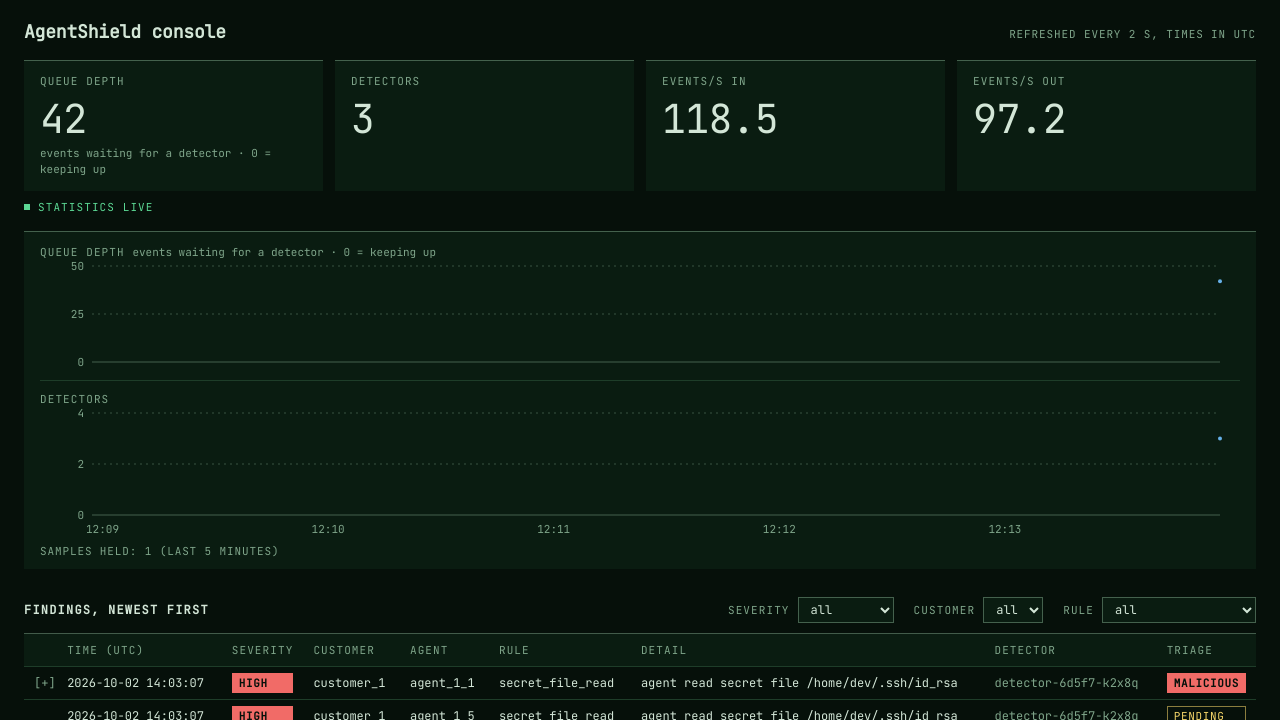
expands a row with a verdict to show the full verdict text
Expected: the text "malicious: the agent read a private key it had no task for" is not shown
Click the button named "show details" at coordinates (45, 683), box [34,673,56,693]
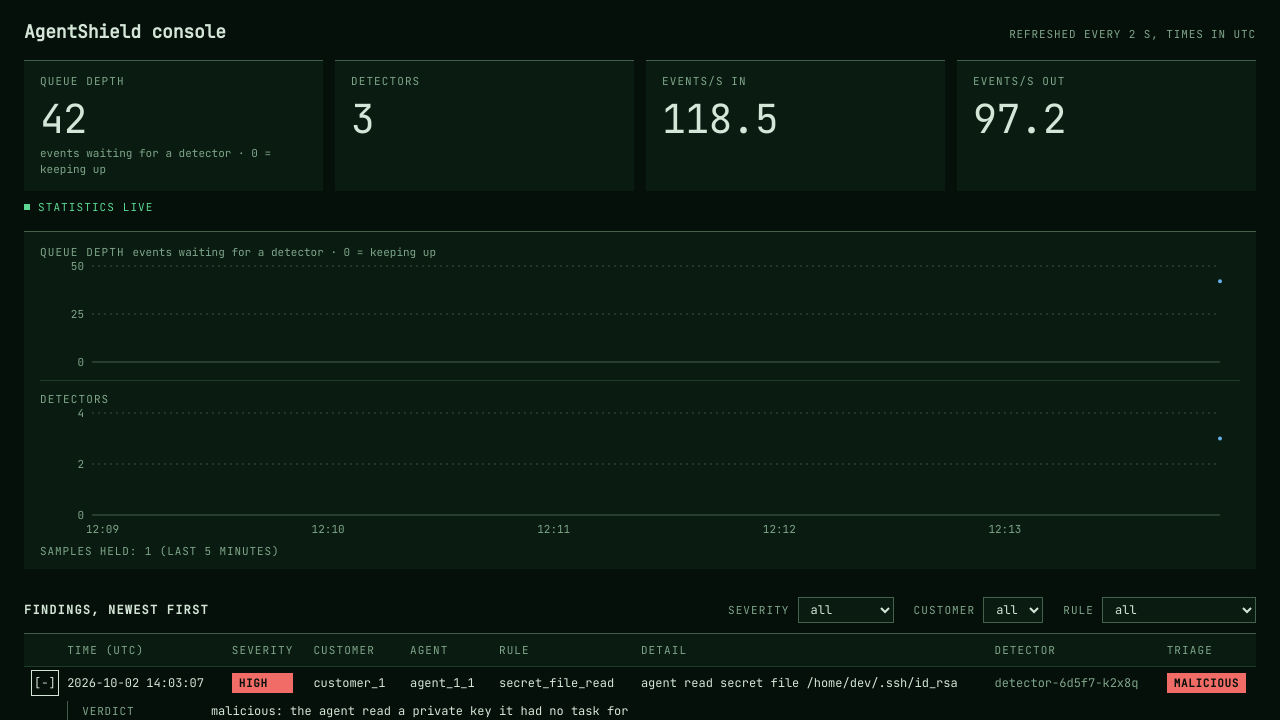
Result: the text "malicious: the agent read a private key it had no task for" is shown at [211,703,628,719]
Click the button named "hide details" at coordinates (45, 683), box [34,673,56,693]
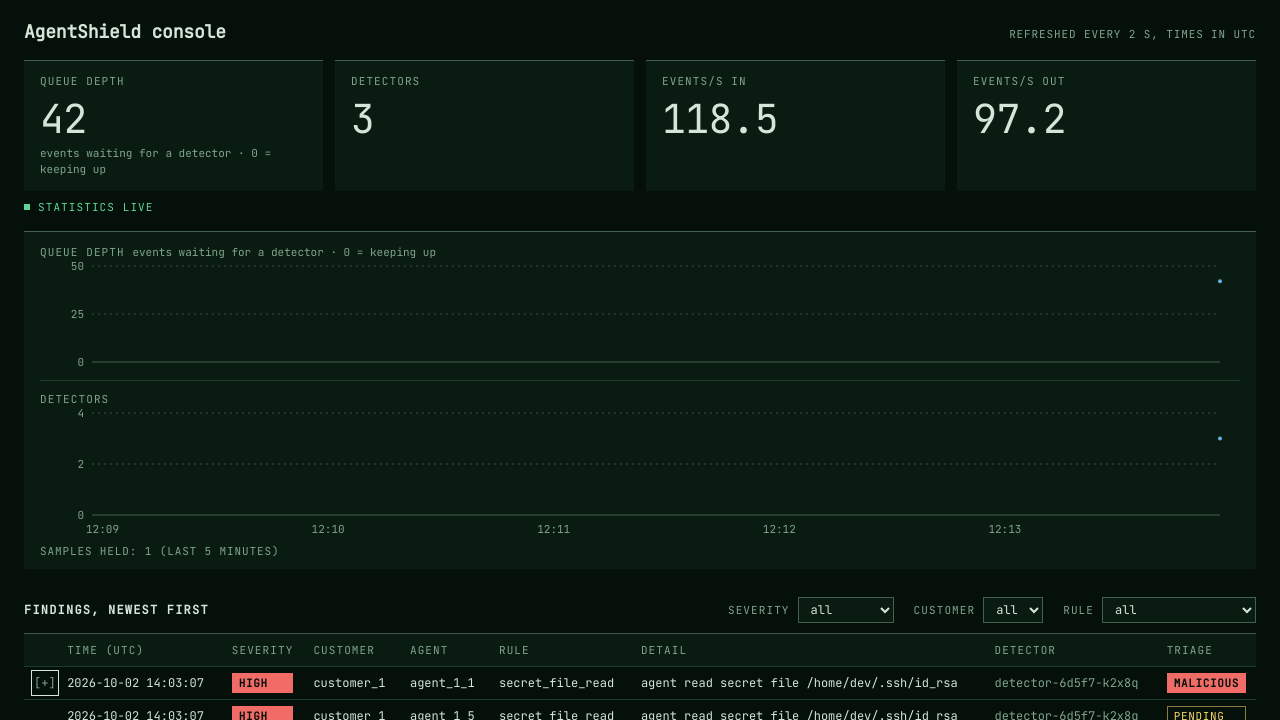
Result: the text "malicious: the agent read a private key it had no task for" is gone
